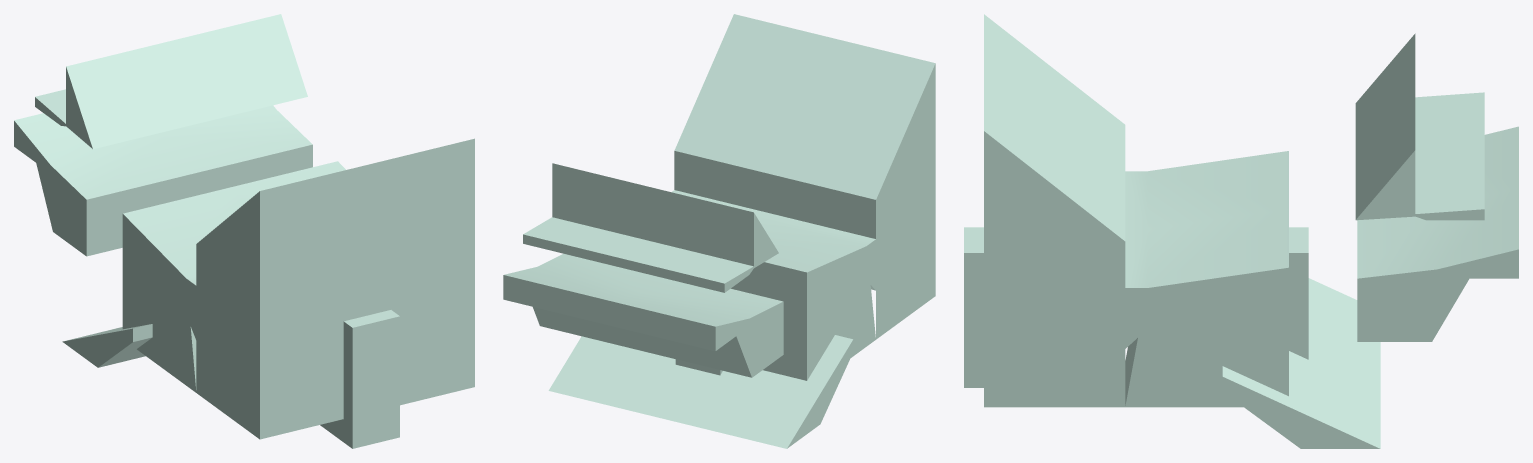
3 renders of one model, left to right at view 1: azimuth 30°, elevation 25°; view 2: azimuth 150°, elevation 25°; view 3: azimuth 270°, elevation 25°, orthographic. The views are drawn at different scales.
Parts seen in each view (by area): view 1: Renderer Node; view 2: Renderer Node; view 3: Renderer Node.
Part boxes in pixels (x1,y1,x2,y2): Renderer Node: (14, 14, 474, 448); Renderer Node: (503, 14, 935, 448); Renderer Node: (964, 14, 1518, 448).
Bounding box in the file's own units: 1.42 × 1.48 × 2.41.
